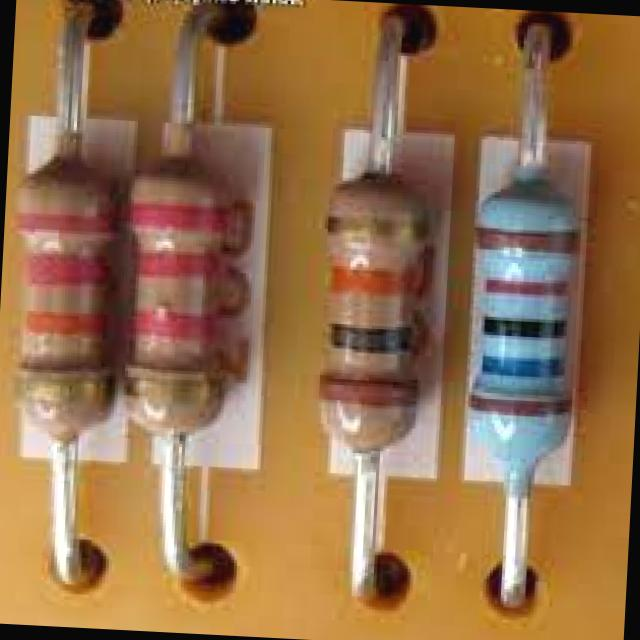Resistor: (470, 184, 581, 489), (326, 177, 429, 453), (132, 176, 240, 435), (20, 163, 113, 444)
black: (319, 320, 412, 354), (478, 310, 568, 335)
brown: (309, 374, 430, 404), (473, 227, 585, 252), (459, 395, 574, 411), (488, 402, 507, 414)
gold: (315, 201, 431, 242), (111, 369, 233, 396), (0, 374, 117, 398)
orange: (328, 266, 425, 296), (20, 308, 111, 335)
red: (23, 253, 116, 285), (130, 303, 215, 337), (126, 200, 229, 225), (134, 251, 218, 276), (474, 276, 573, 293), (14, 213, 119, 228)
